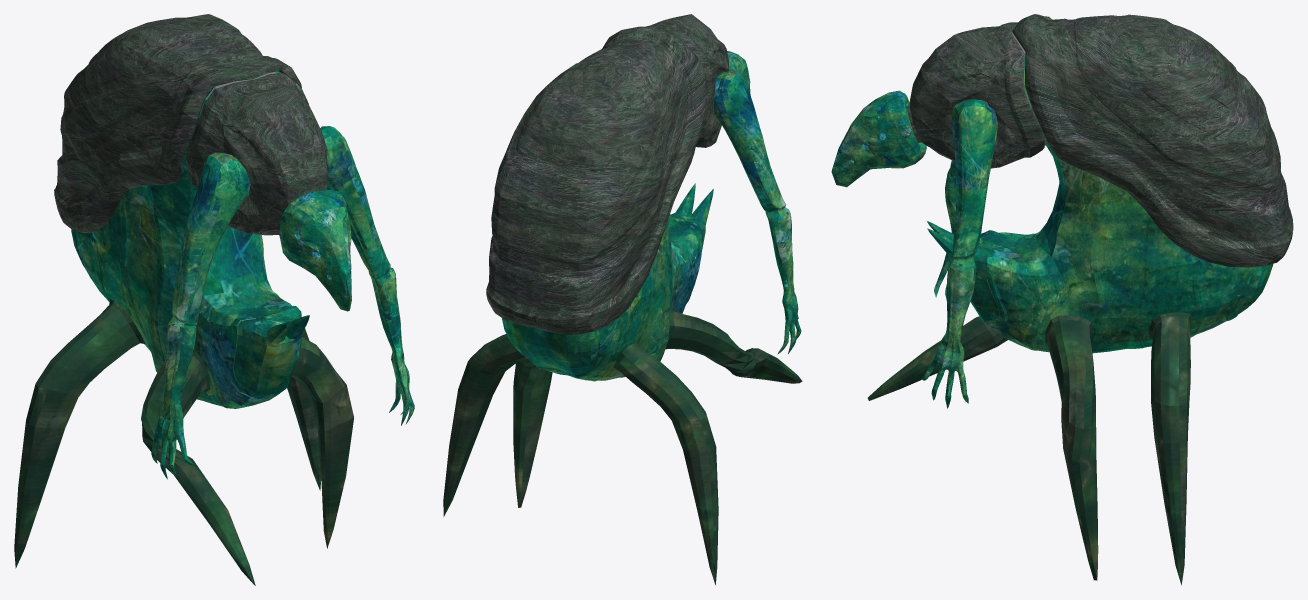
The model's file is Andar.0006.obj.
3 renders of one model, left to right at view 1: azimuth 30°, elevation 25°; view 2: azimuth 150°, elevation 25°; view 3: azimuth 270°, elevation 25°, orthographic. The views are drawn at different scales.
Size of the model in its own units: 2.33 by 3.92 by 3.26.
5 materials, 4 textured.
